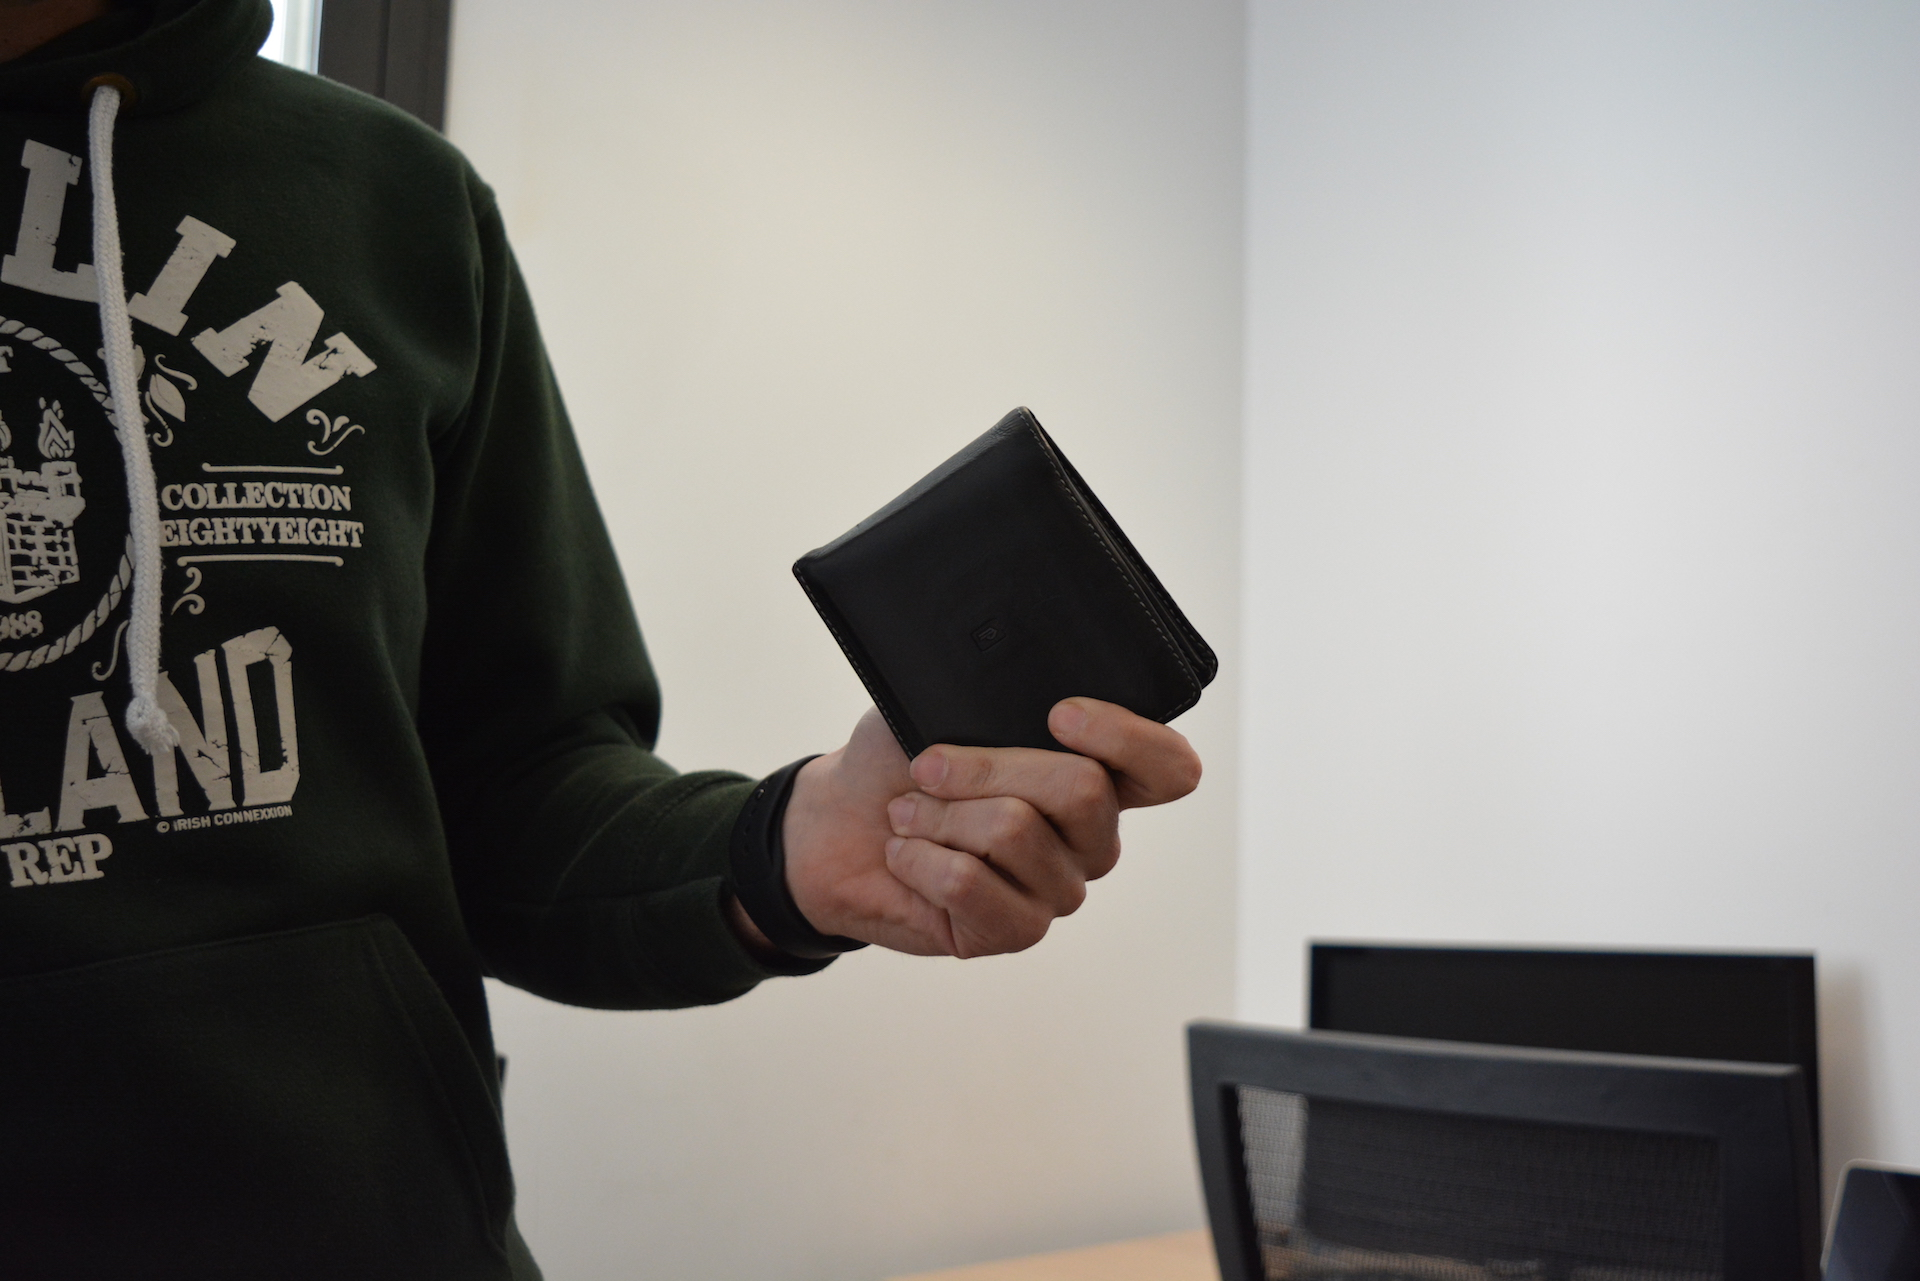monedero: (791, 405, 1221, 766)
